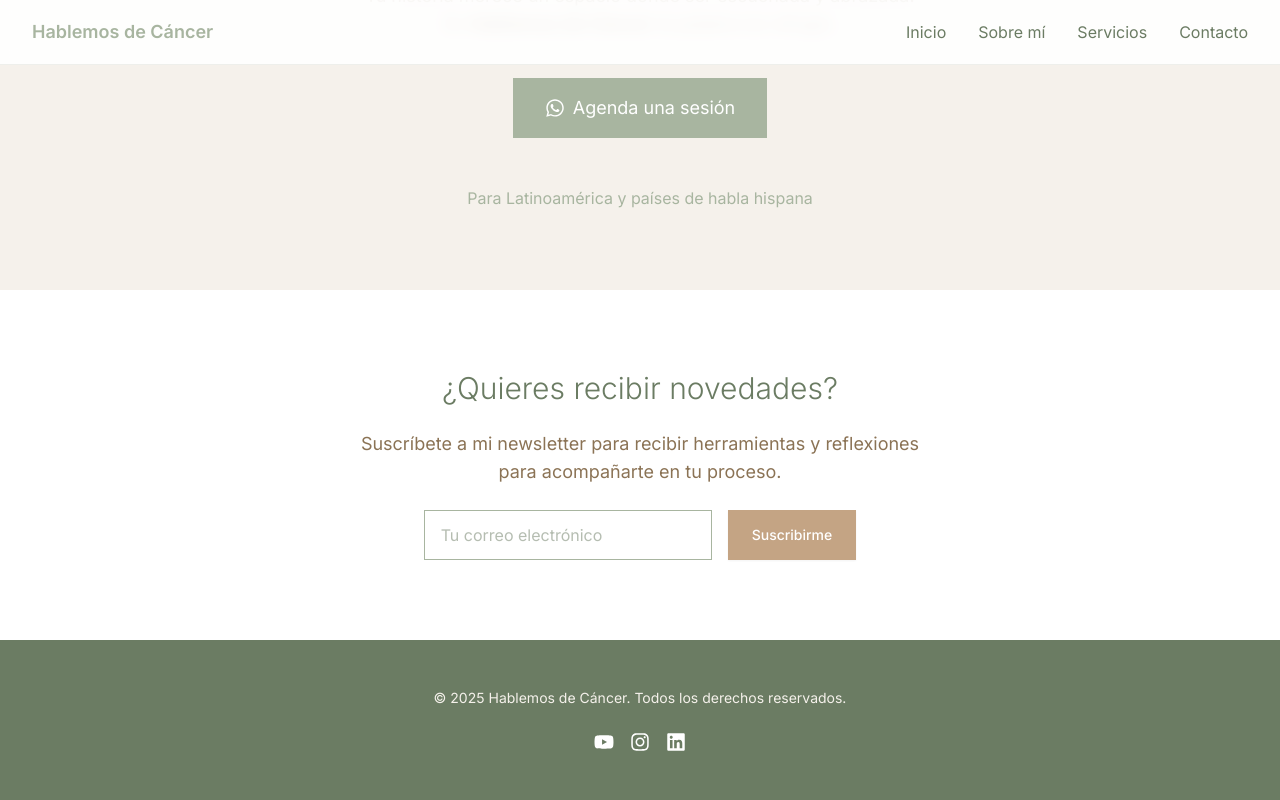
Test: Home Page › should show error message if newsletter subscription is already subscribed
This screenshot has width=1280, height=800.
(page scrolled)
Step 1. Type "test@test.com" into the field with placeholder "Tu correo electrónico" → (568, 535), box [424, 510, 712, 560]
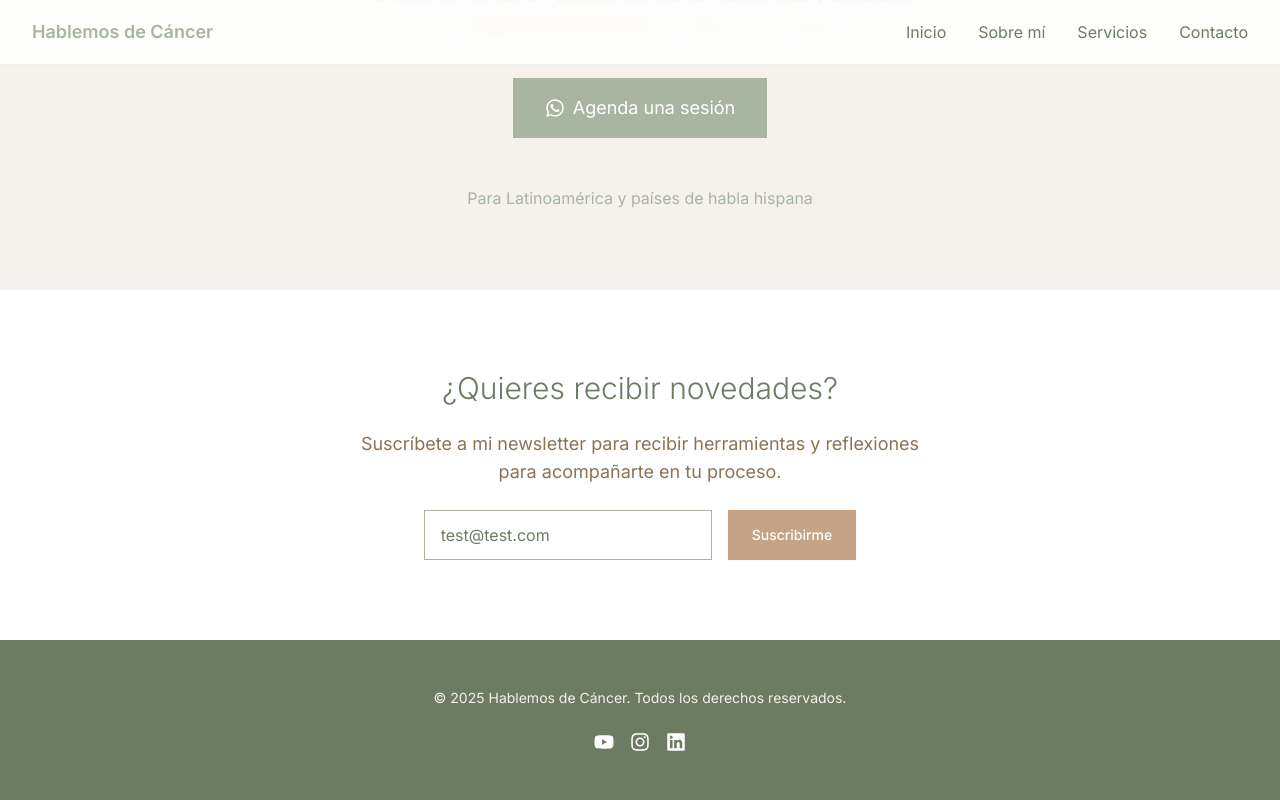
Step 2. Click the button "Suscribirme" → click(792, 535), box [728, 510, 856, 560]
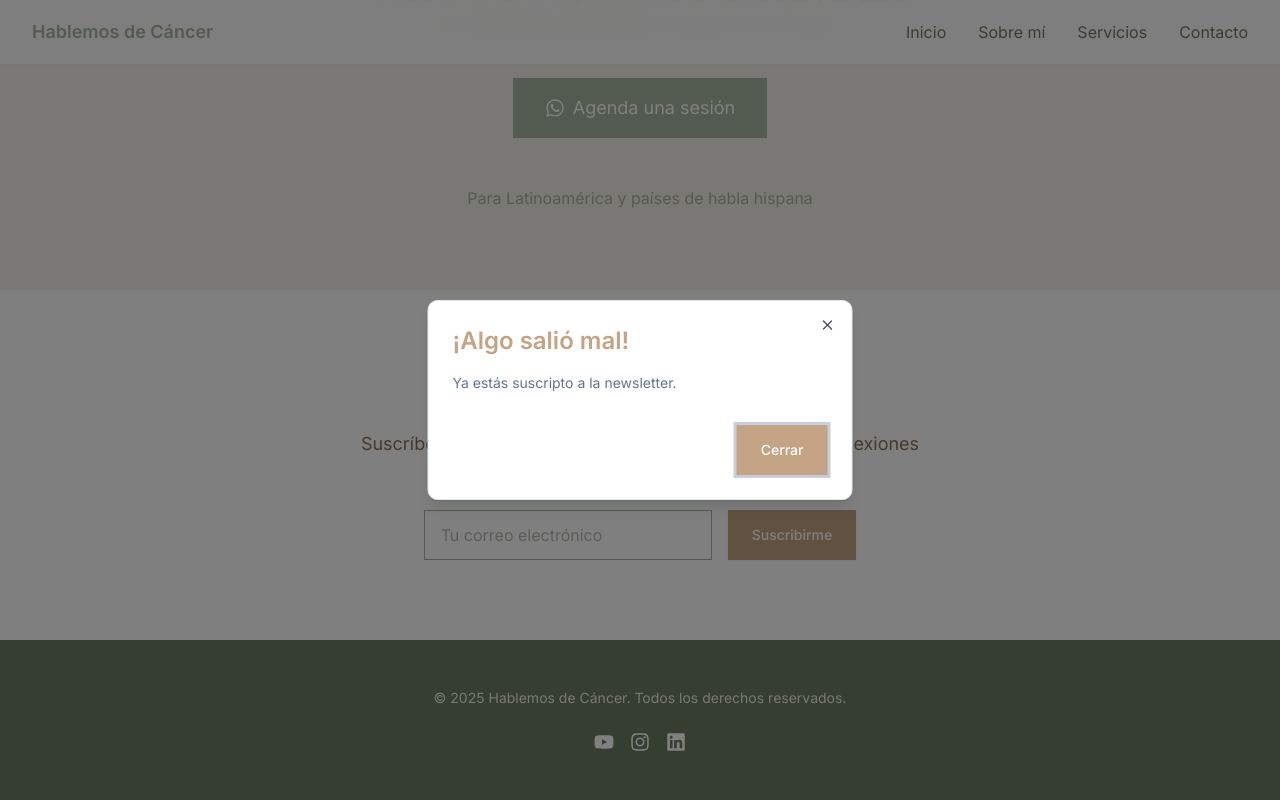
Check: the text "Ya estás suscripto a la newsletter." is shown, box [452, 374, 677, 391]
